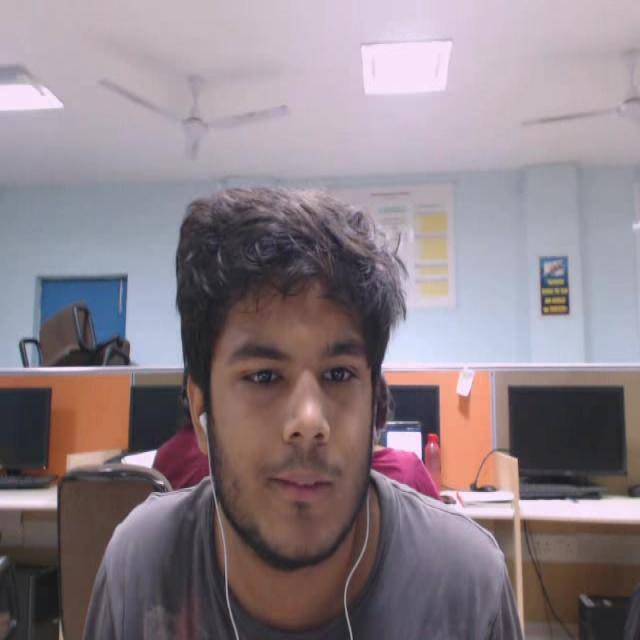Engaged: (134, 170, 475, 590)
